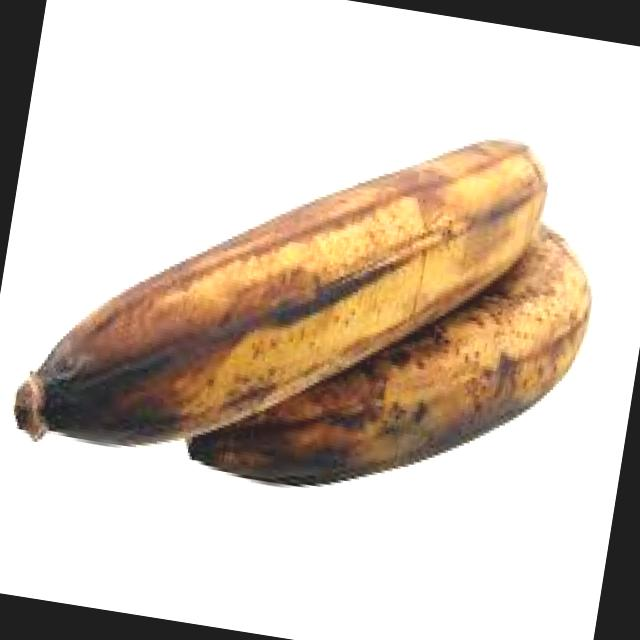organic: (6, 66, 612, 540)
